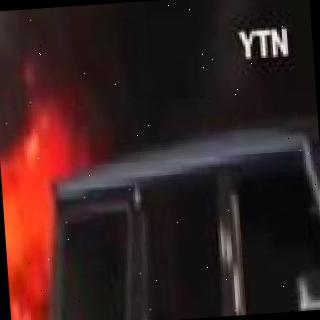fire: (0, 140, 90, 320)
